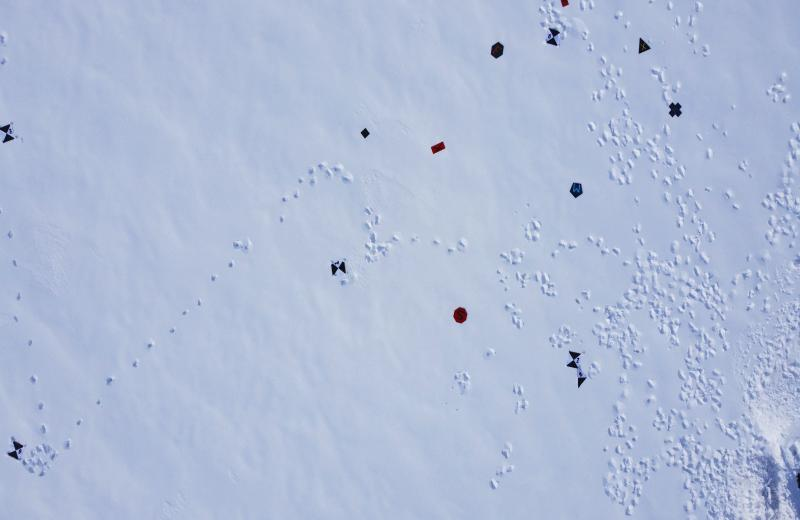Cross: (668, 102, 682, 118)
Hexagon: (491, 41, 504, 60)
Octagon: (453, 307, 468, 324)
Pentagon: (569, 182, 584, 199)
Rectangle: (431, 141, 446, 155), (560, 0, 569, 7)
Square: (360, 127, 370, 140)
Triangle: (638, 36, 651, 55)
